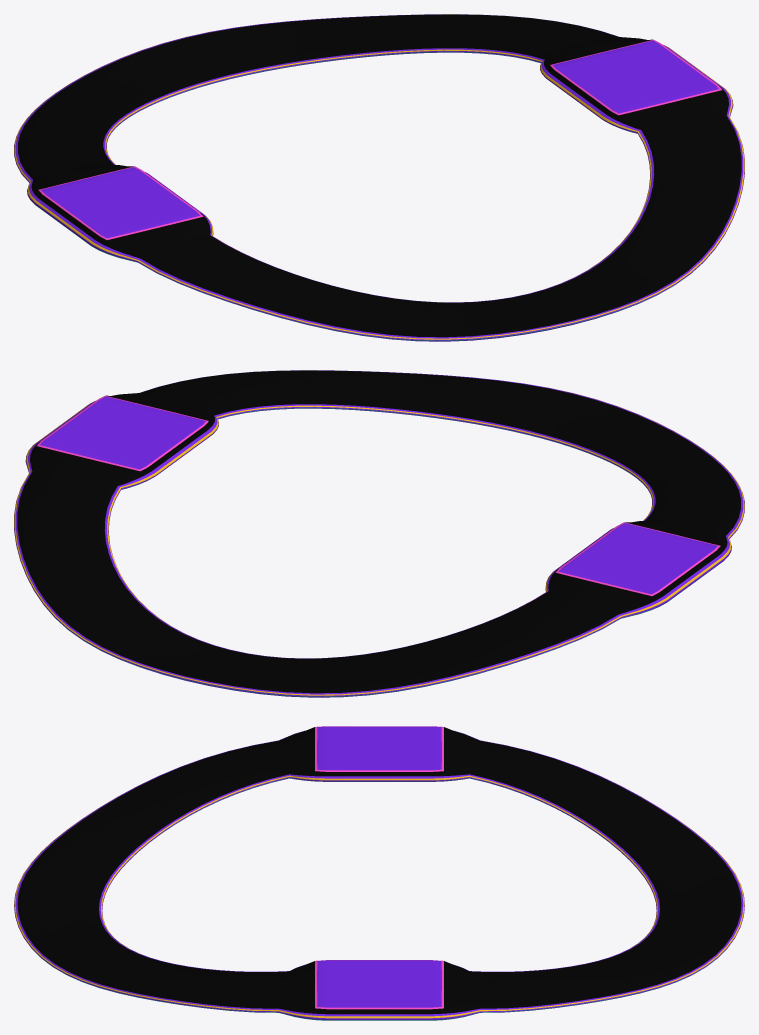
Rendered from NEW Horseshoe 1.FBX.
The picture shows the model from 3 angles, top to bottom: view 1: azimuth 30°, elevation 25°; view 2: azimuth 150°, elevation 25°; view 3: azimuth 270°, elevation 25°; orthographic projection. The views are drawn at different scales.
Parts seen in each view (by area): view 1: Loft002; view 2: Loft002; view 3: Loft002.
Boxes of the visible parts, x1,y1,x2,y2 form: Loft002: (14,14,744,341); Loft002: (14,370,744,697); Loft002: (14,726,744,1020).
Size of the model in its own units: 81.14 by 6.51 by 86.25.
